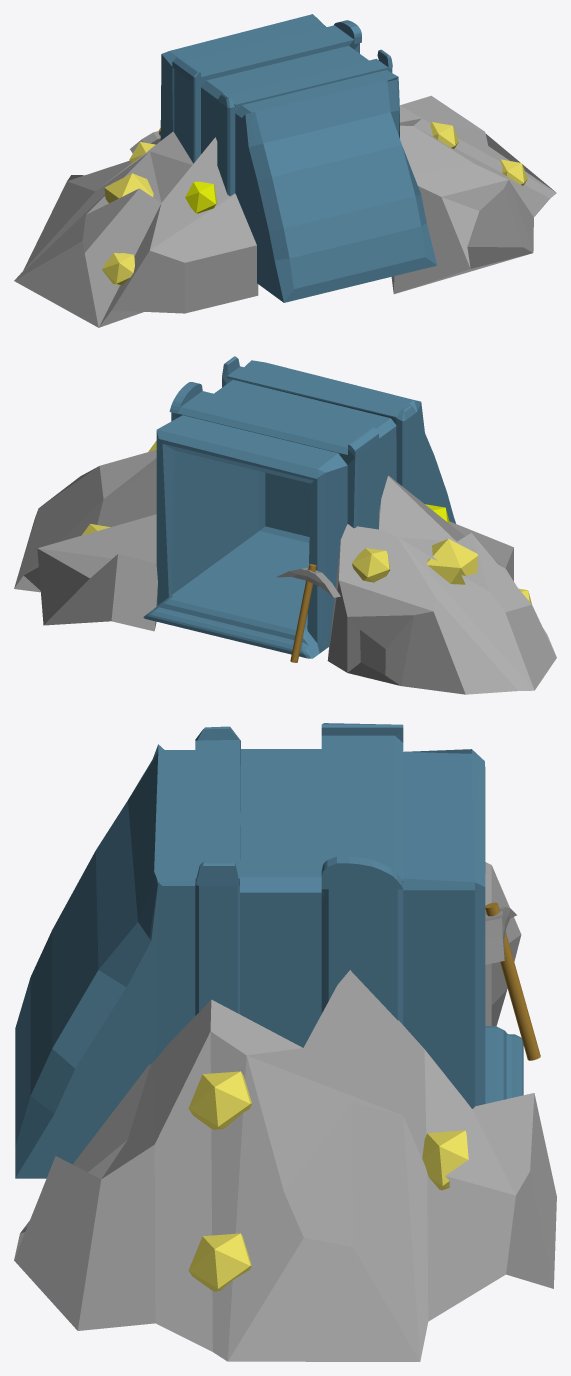
Rendered from dul.fbx.
3 views of the same model, one above another, from view 1: azimuth 30°, elevation 25°; view 2: azimuth 150°, elevation 25°; view 3: azimuth 270°, elevation 25° (orthographic). The views are drawn at different scales.
Parts seen in each view (by area): view 1: Cube, Cube.002, Cube.003, Icosphere.003, Icosphere, Icosphere.002, Icosphere.004, Icosphere.006; view 2: Cube, Cube.002, Cube.003, Icosphere, Icosphere.001, Cylinder, Cube.001; view 3: Cube, Cube.003, Icosphere.004, Icosphere.006, Cube.002, Icosphere.005, Cylinder, Cube.001.
Boxes of the visible parts, x1,y1,x2,y2 form: Cube: (160, 14, 437, 302); Cube.002: (14, 132, 258, 327); Cube.003: (391, 95, 556, 293); Icosphere.003: (102, 253, 134, 285); Icosphere: (104, 173, 153, 203); Icosphere.002: (185, 181, 216, 213); Icosphere.004: (430, 122, 458, 148); Icosphere.006: (500, 159, 527, 185); Cube: (143, 356, 455, 658); Cube.002: (327, 475, 556, 694); Cube.003: (14, 450, 157, 631); Icosphere: (427, 539, 477, 584); Icosphere.001: (352, 548, 390, 582); Cylinder: (290, 564, 316, 662); Cube.001: (276, 567, 340, 597); Cube: (15, 723, 523, 1178); Cube.003: (14, 970, 556, 1361); Icosphere.004: (188, 1071, 251, 1129); Icosphere.006: (188, 1233, 251, 1291); Cube.002: (485, 862, 521, 1026); Icosphere.005: (422, 1130, 468, 1190); Cylinder: (485, 902, 540, 1060); Cube.001: (485, 907, 516, 964).
Size of the model in its own units: 649 by 285 by 332.
